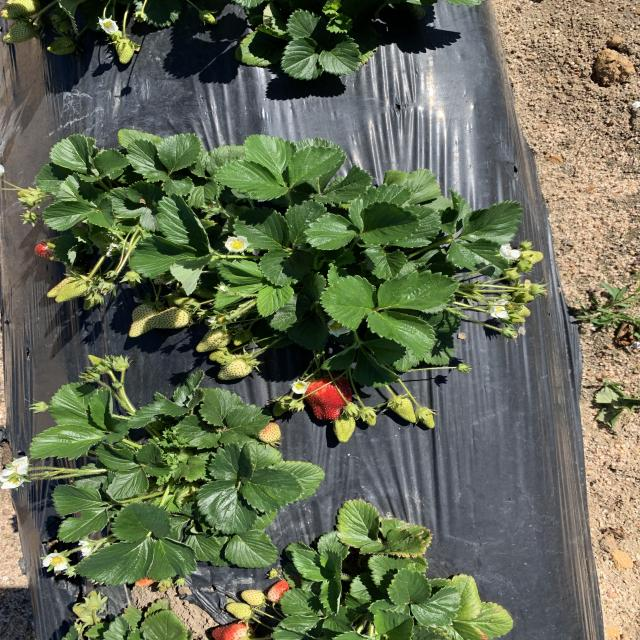unripe: (296, 370, 358, 422), (207, 619, 259, 640)
